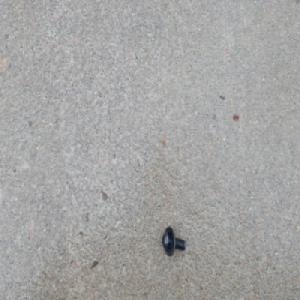BoltWasher: (161, 225, 185, 257)
